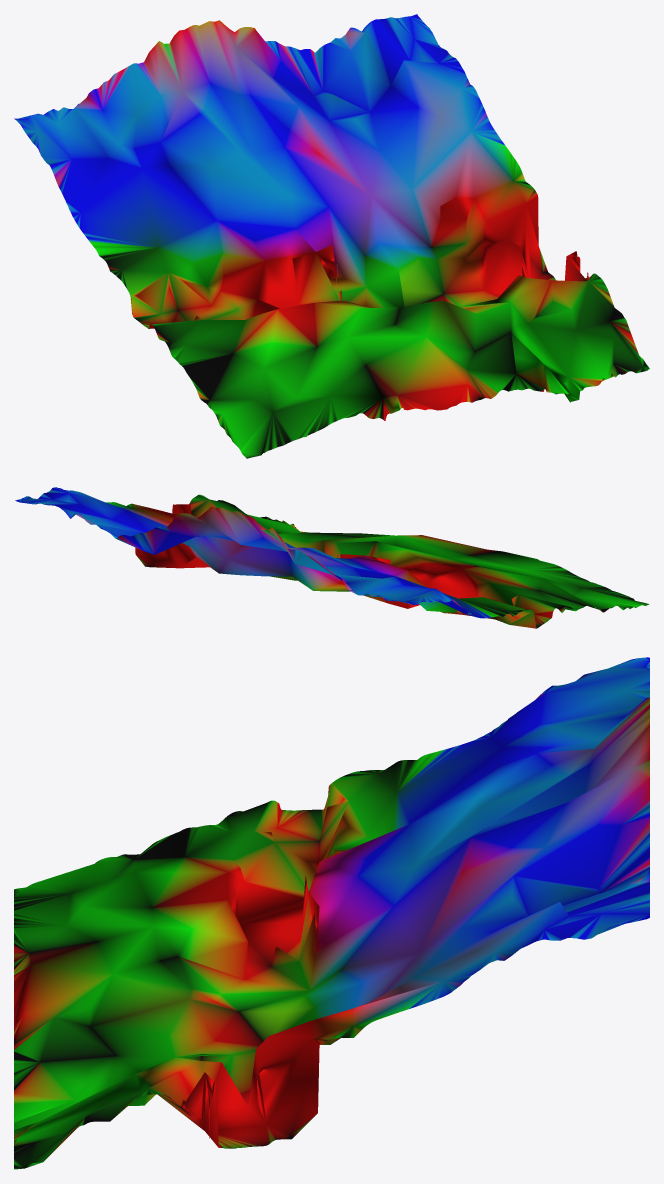
The model's file is N_3_2_anel.glb.
The picture shows the model from 3 angles, top to bottom: view 1: azimuth 30°, elevation 25°; view 2: azimuth 150°, elevation 25°; view 3: azimuth 270°, elevation 25°; orthographic projection. The views are drawn at different scales.
Parts seen in each view (by area): view 1: N_3_2; view 2: N_3_2; view 3: N_3_2.
Part boxes in pixels (x1,y1,x2,y2): N_3_2: (14, 14, 649, 458); N_3_2: (15, 487, 649, 628); N_3_2: (14, 657, 649, 1169).
Bounding box in the file's own units: 256 × 147 × 256.
